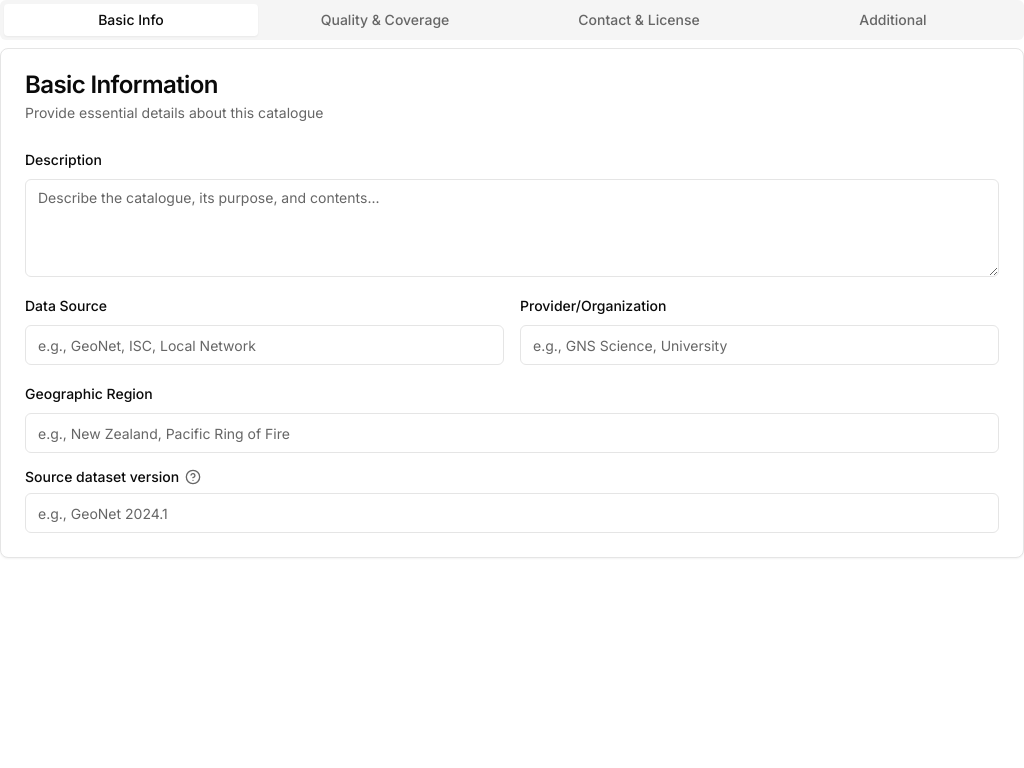
Test: CatalogueMetadataForm — Time Period UTC handling (gc#6) › round-trips a legacy zone-less stored value (pre-fix data) without crashing
Click the tab "Quality & Coverage" at (385, 20), box [258,4,512,36]
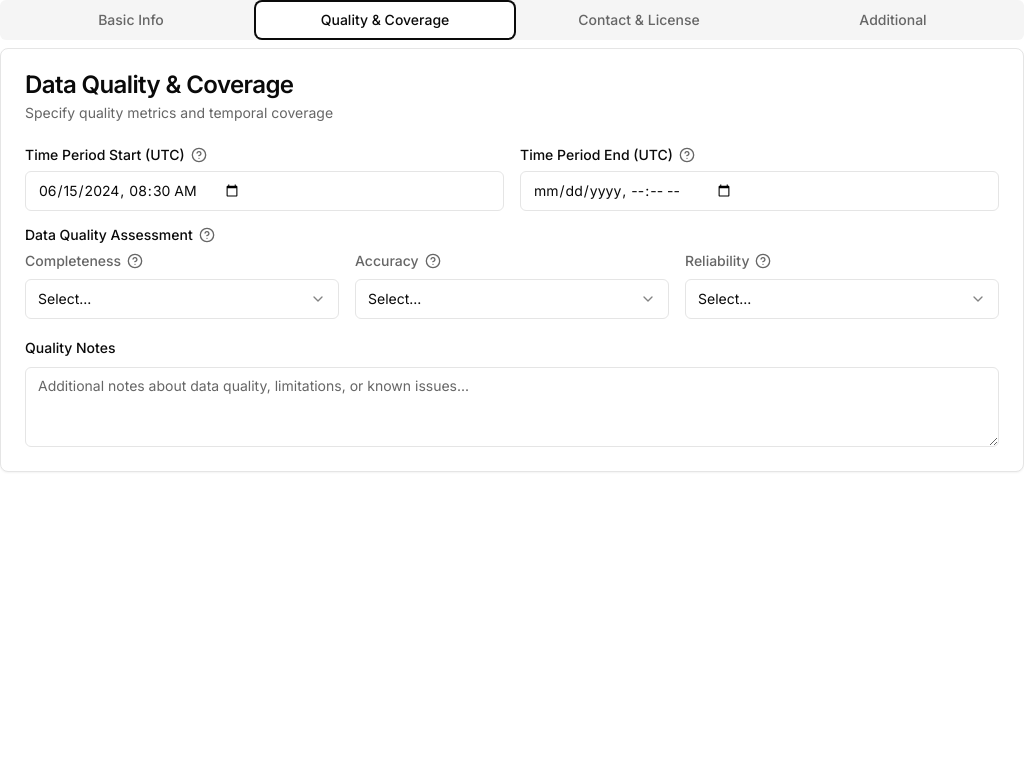
Result: the field labelled "Time Period Start (UTC)" holds "2024-06-15T08:30" at [25,171,504,211]
